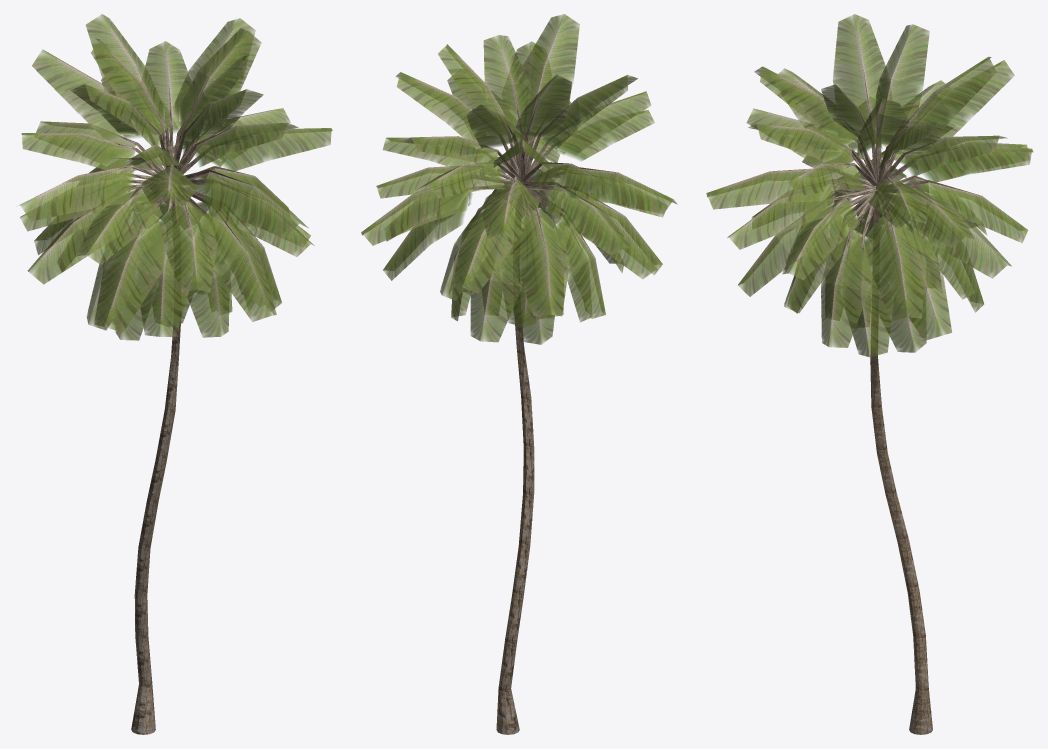
The model's file is date_palm.glb.
3 views of the same model, side by side, from view 1: azimuth 30°, elevation 25°; view 2: azimuth 150°, elevation 25°; view 3: azimuth 270°, elevation 25° (orthographic). The views are drawn at different scales.
Visible parts, largest first — view 1: Tree_0_w; view 2: Tree_0_w; view 3: Tree_0_w.
Part boxes in pixels (box(x1,y1,x2,y2)): Tree_0_w: box(19, 14, 332, 734); Tree_0_w: box(361, 14, 677, 734); Tree_0_w: box(706, 14, 1033, 734).
Bounding box in the file's own units: 3.85 × 9 × 3.91.
Materials: 2 (2 with a texture image).
